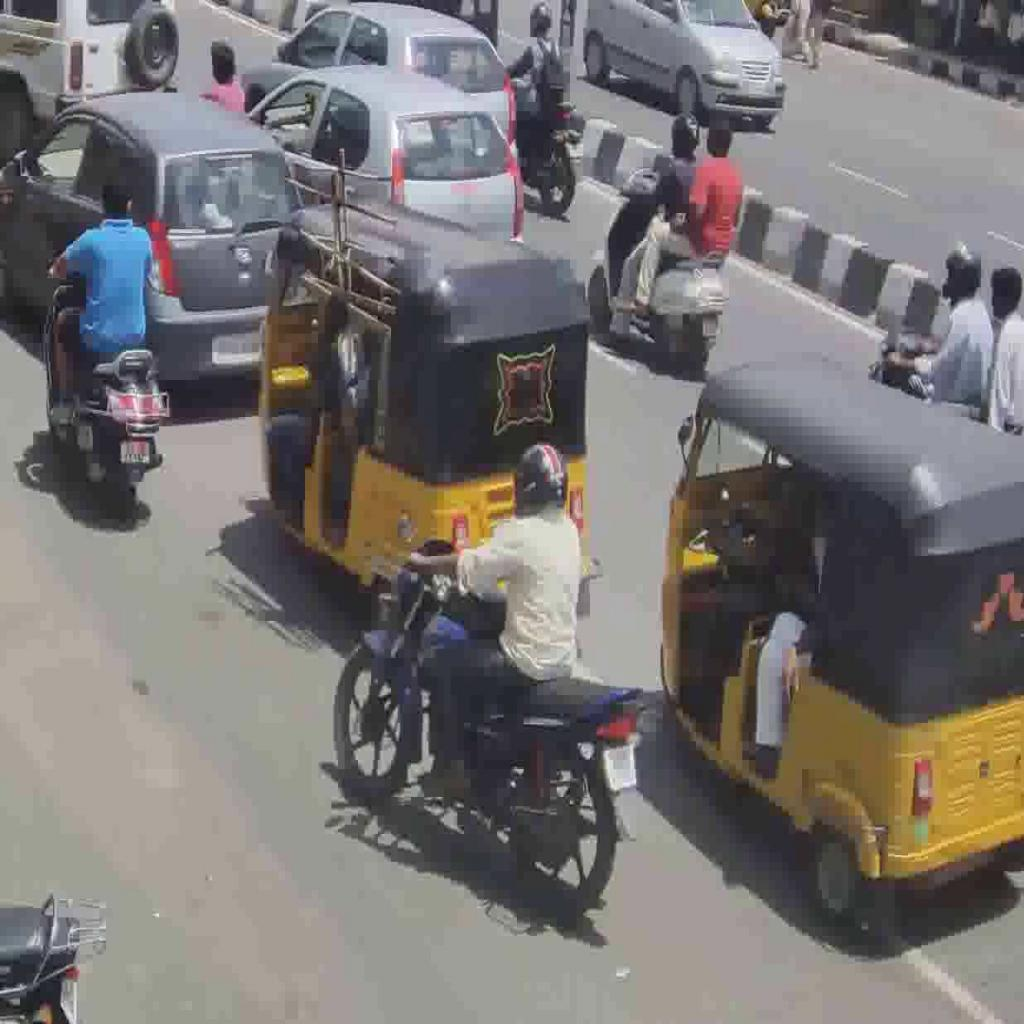helmet: (333, 532, 645, 910), (44, 254, 171, 494), (584, 170, 722, 362), (513, 90, 584, 214)
